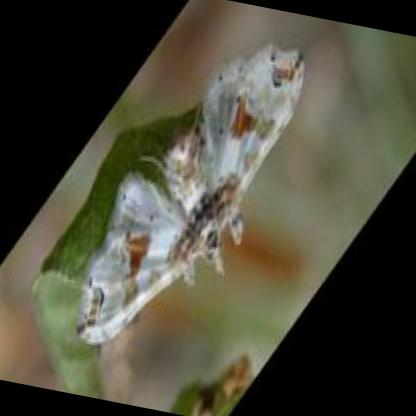leucinodes: (77, 42, 303, 345)
